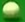white: (0, 0, 25, 22)
